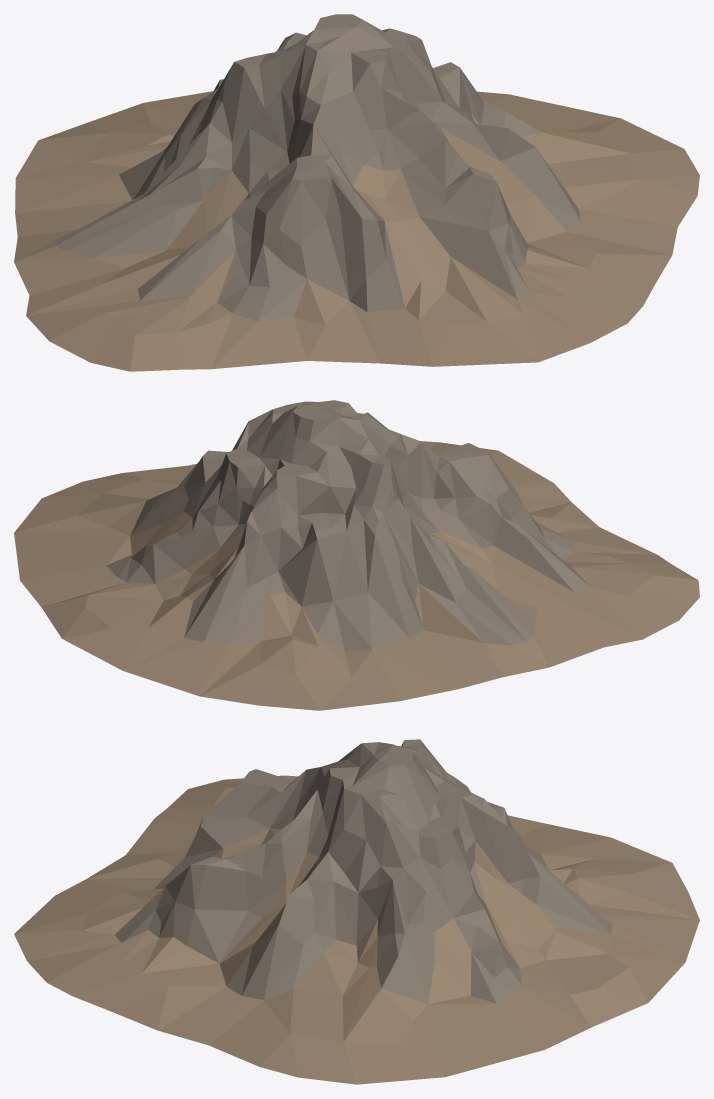
Rendered from SM_Env_Mountain_04.fbx.
3 views of the same model, one above another, from view 1: azimuth 30°, elevation 25°; view 2: azimuth 150°, elevation 25°; view 3: azimuth 270°, elevation 25° (orthographic). The views are drawn at different scales.
Parts seen in each view (by area): view 1: SM_Env_Mountain_04; view 2: SM_Env_Mountain_04; view 3: SM_Env_Mountain_04.
Boxes of the visible parts, box(x1,y1,x2,y2) form: SM_Env_Mountain_04: box(14, 14, 699, 371); SM_Env_Mountain_04: box(14, 400, 699, 710); SM_Env_Mountain_04: box(14, 739, 699, 1084).
Size of the model in its own units: 4620 by 1249 by 4332.
